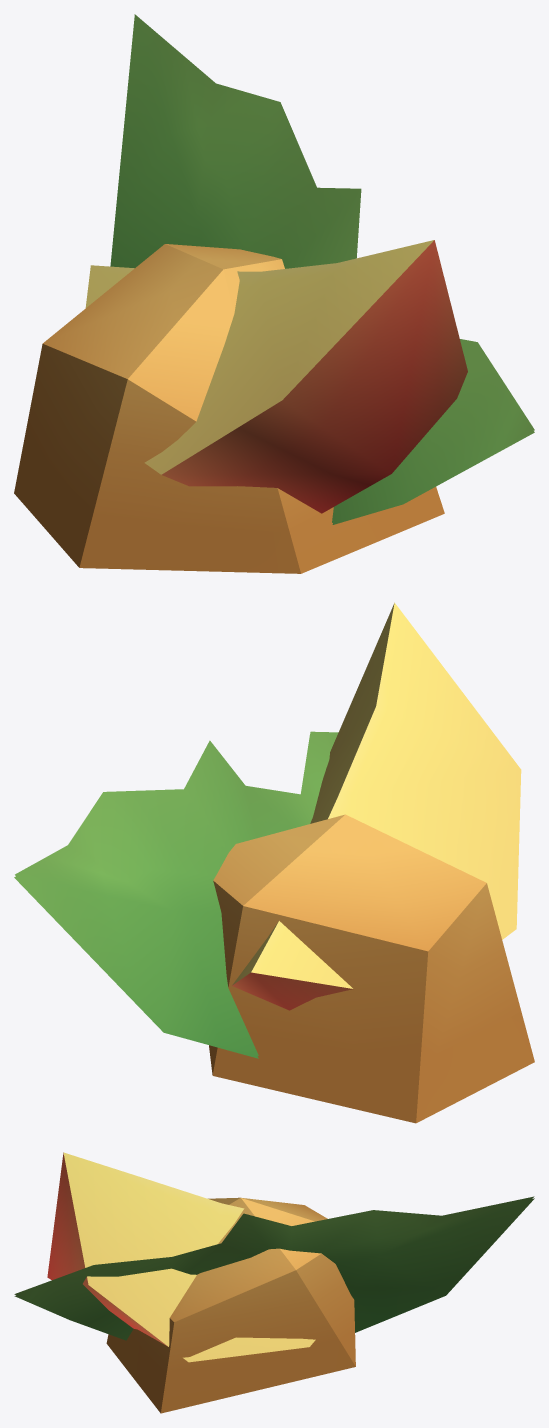
The model's file is Items_Pieces.fbx.
The picture shows the model from 3 angles, top to bottom: view 1: azimuth 30°, elevation 25°; view 2: azimuth 150°, elevation 25°; view 3: azimuth 270°, elevation 25°; orthographic projection. The views are drawn at different scales.
Visible parts, largest first — view 1: Piece_Mushroom, Piece_Apple, Piece_Leaf; view 2: Piece_Mushroom, Piece_Leaf, Piece_Apple; view 3: Piece_Mushroom, Piece_Leaf, Piece_Apple.
Part boxes in pixels (left/top/right/bottom): Piece_Mushroom: left=14, top=244, right=444, bottom=573; Piece_Apple: left=85, top=240, right=467, bottom=513; Piece_Leaf: left=110, top=14, right=534, bottom=524; Piece_Mushroom: left=209, top=814, right=534, bottom=1123; Piece_Leaf: left=14, top=731, right=338, bottom=1058; Piece_Apple: left=232, top=602, right=521, bottom=1010; Piece_Mushroom: left=106, top=1197, right=355, bottom=1413; Piece_Leaf: left=14, top=1196, right=534, bottom=1340; Piece_Apple: left=47, top=1152, right=315, bottom=1362.
Size of the model in its own units: 1.26 by 1.25 by 2.52.
